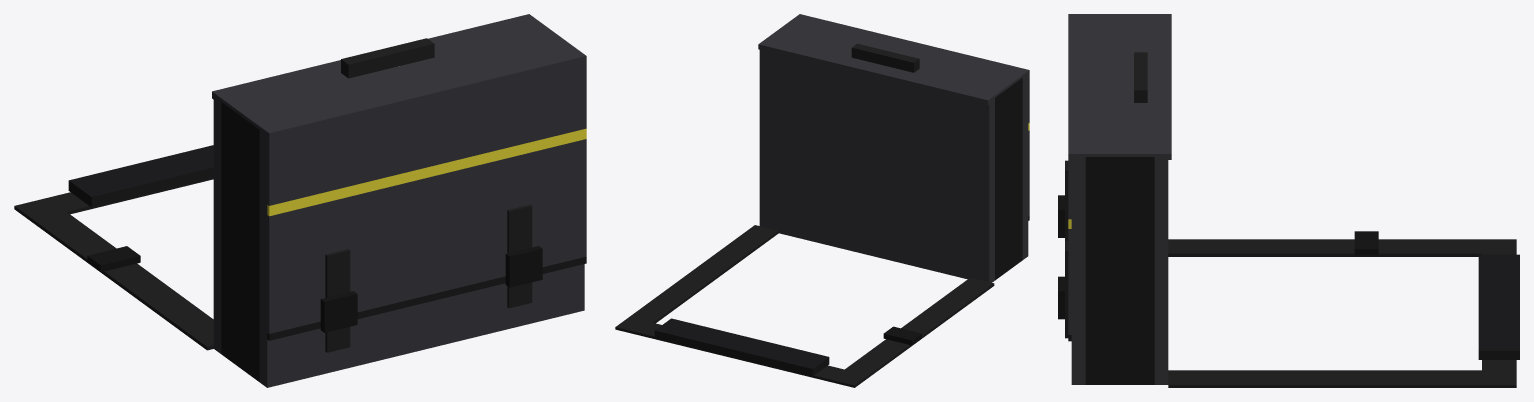
Rendered from mbag.glb.
The picture shows the model from 3 angles, left to right: view 1: azimuth 30°, elevation 25°; view 2: azimuth 150°, elevation 25°; view 3: azimuth 270°, elevation 25°; orthographic projection. The views are drawn at different scales.
Visible parts, largest first — view 1: mbag:compound; view 2: mbag:compound; view 3: mbag:compound.
Part boxes in pixels (box(x1,y1,x2,y2)): mbag:compound: box(14, 14, 586, 387); mbag:compound: box(615, 14, 1029, 387); mbag:compound: box(1058, 14, 1519, 387).
Size of the model in its own units: 0.404 by 0.312 by 0.536.
